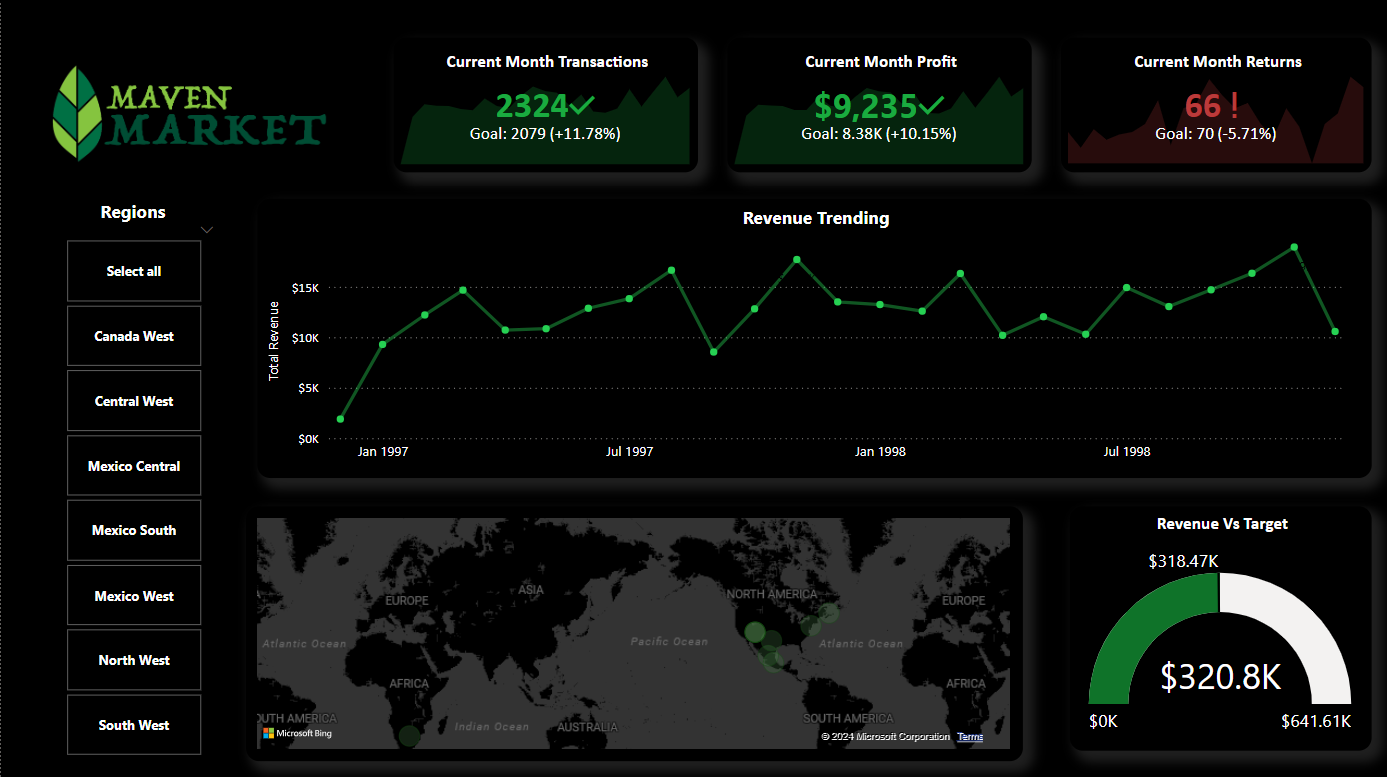

Layout of this report page (visuals, bound fields, positions):
{"tool":"powerbi","page":{"name":"Topline Performance","canvas":[1280,720],"ordinal":0},"visuals":[{"type":"image","box":[34.2,34.2,273.9,137],"z":0},{"type":"kpi","title":"Current Month Profit","fields":{"TrendLine":["Calendar.Start of Month"],"Indicator":["MavenMarket_Transactions.Total Profit"],"Goal":["MavenMarket_Transactions.Last Month Profit"]},"box":[667.7,34.8,279.9,124.1],"z":1000},{"type":"kpi","title":"Current Month Returns","fields":{"TrendLine":["Calendar.Start of Month"],"Indicator":["Returns_data.Total Returns"],"Goal":["Returns_data.Last Month Returns"]},"box":[974.7,34.8,285.7,124.1],"z":2000},{"type":"map","fields":{"Category":["Regions.sales_region"]},"box":[225,465.9,714.1,234.8],"z":3000},{"type":"slicer","title":"Regions","fields":{"Values":["Regions.sales_region"]},"box":[34.2,182.2,173.6,518.5],"z":4000},{"type":"lineChart","title":"Revenue Trending","fields":{"Category":["Calendar.Start of Week.Variation.Date Hierarchy.Year","Calendar.Start of Week.Variation.Date Hierarchy.Month"],"Y":["MavenMarket_Transactions.Total Revenue"]},"box":[236,182.2,1024.7,256.8],"z":5000},{"type":"gauge","title":"Revenue Vs Target","fields":{"Y":["MavenMarket_Transactions.Total Revenue"],"TargetValue":["MavenMarket_Transactions.Revenue Target"]},"box":[983.2,465.9,277.6,225],"z":6000},{"type":"kpi","title":"Current Month Transactions","fields":{"TrendLine":["Calendar.Start of Month"],"Indicator":["MavenMarket_Transactions.Total Transactions"],"Goal":["MavenMarket_Transactions.Last Month Transactions"]},"box":[360.7,34.8,279.9,124.1],"z":7000}]}

Visuals, with their boxes in screenshot pixels (x1, y1, x2, y2), scaled from the page's 1280x720 canvas onto the 1387x777 screenshot:
image: (x1=37, y1=37, x2=334, y2=185)
"Current Month Profit" kpi: (x1=724, y1=38, x2=1027, y2=171)
"Current Month Returns" kpi: (x1=1056, y1=38, x2=1366, y2=171)
map - Regions.sales_region: (x1=244, y1=503, x2=1018, y2=756)
"Regions" slicer: (x1=37, y1=197, x2=225, y2=756)
"Revenue Trending" lineChart: (x1=256, y1=197, x2=1366, y2=474)
"Revenue Vs Target" gauge: (x1=1065, y1=503, x2=1366, y2=746)
"Current Month Transactions" kpi: (x1=391, y1=38, x2=694, y2=171)
